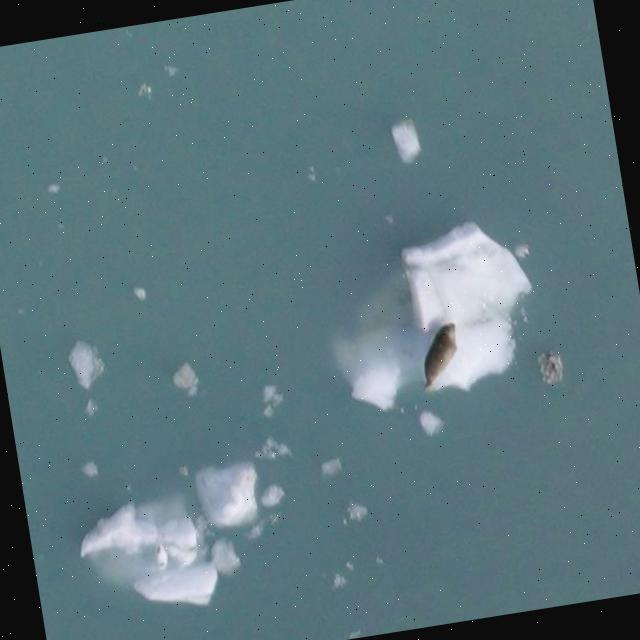seal: (408, 317, 467, 396)
